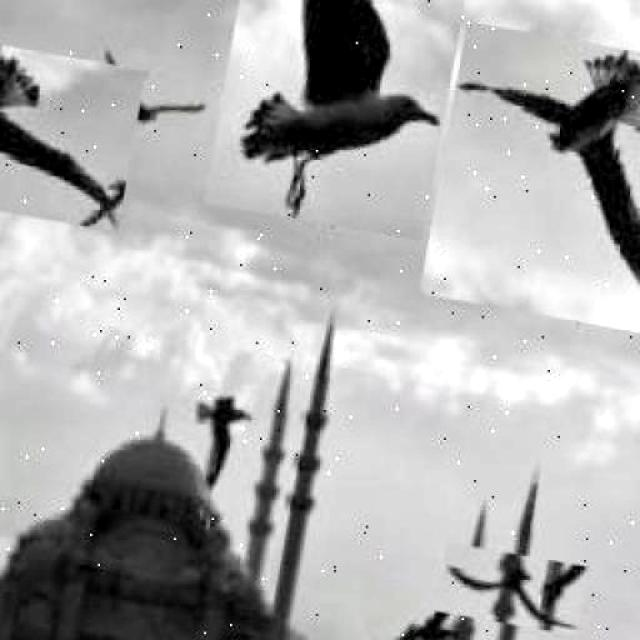airplane: (419, 20, 640, 338), (202, 0, 491, 241), (0, 20, 145, 232), (434, 541, 588, 635), (91, 46, 212, 138), (178, 389, 264, 505), (370, 564, 474, 640)
